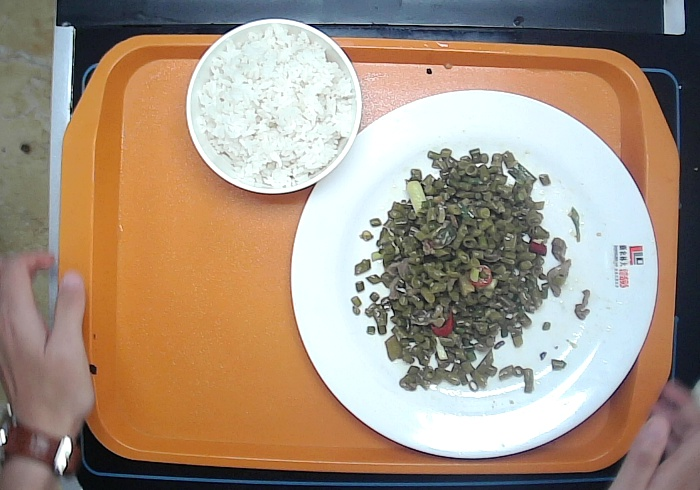ZNLD-Da_Yuan_Pan: (289, 86, 659, 462)
ZNLD-Fan_Wan: (183, 18, 367, 196)
